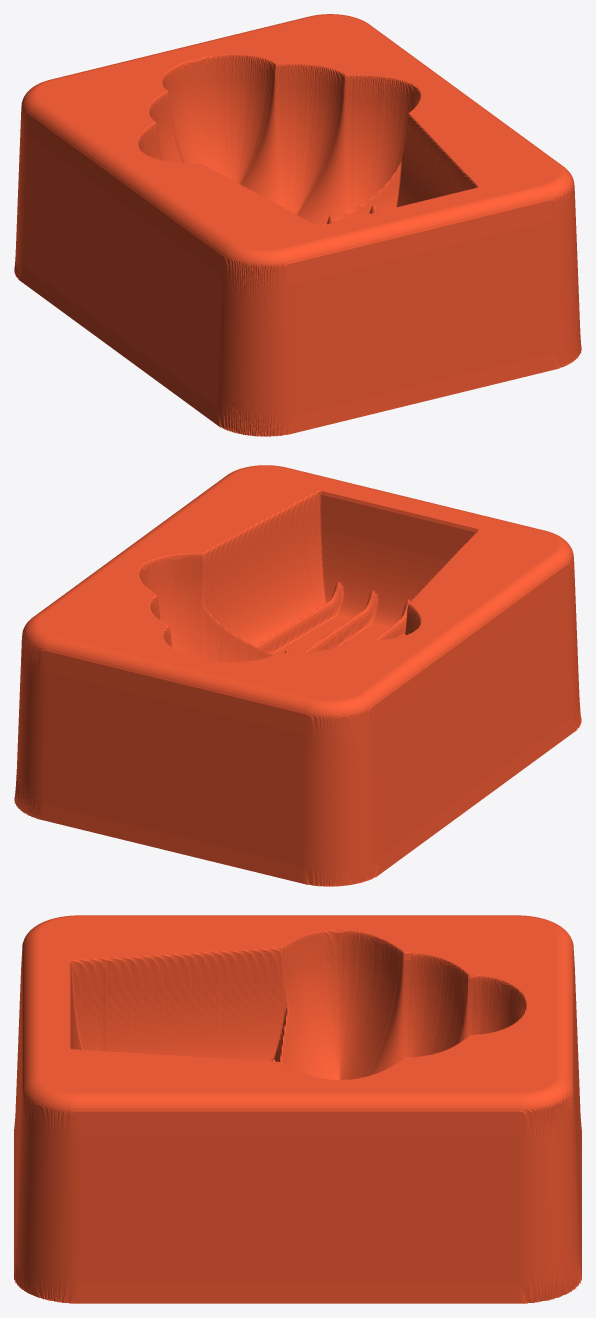
File: mold.glb
The picture shows the model from 3 angles, top to bottom: view 1: azimuth 30°, elevation 25°; view 2: azimuth 150°, elevation 25°; view 3: azimuth 270°, elevation 25°; orthographic projection. The views are drawn at different scales.
Parts seen in each view (by area): view 1: geometry_0; view 2: geometry_0; view 3: geometry_0.
Boxes of the visible parts, bbox=[...] form: geometry_0: bbox=[14, 14, 581, 436]; geometry_0: bbox=[14, 465, 581, 886]; geometry_0: bbox=[14, 915, 581, 1303].
Bounding box in the file's own units: 0.0656 × 0.031 × 0.0798.
